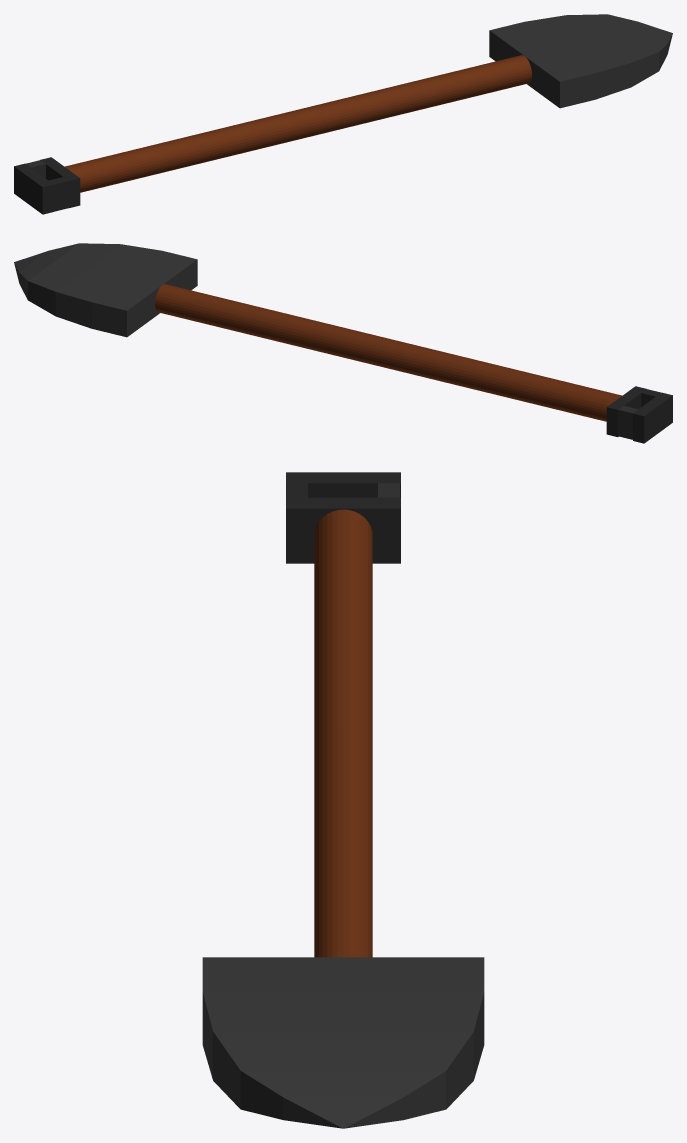
File: Shovel.fbx
3 views of the same model, one above another, from view 1: azimuth 30°, elevation 25°; view 2: azimuth 150°, elevation 25°; view 3: azimuth 270°, elevation 25° (orthographic). The views are drawn at different scales.
Parts seen in each view (by area): view 1: Cylinder, Cube, Cube.002, Cube.001, Cube.004; view 2: Cylinder, Cube, Cube.002, Cube.001, Cube.003; view 3: Cube, Cylinder, Cube.001, Cube.002.
Part boxes in pixels (x1=…): Cylinder: x1=65, y1=55, x2=531, y2=192; Cube: x1=489, y1=14, x2=672, y2=108; Cube.002: x1=14, y1=163, x2=53, y2=214; Cube.001: x1=40, y1=157, x2=80, y2=207; Cube.004: x1=49, y1=177, x2=68, y2=211; Cylinder: x1=155, y1=284, x2=621, y2=421; Cube: x1=14, y1=243, x2=197, y2=337; Cube.002: x1=633, y1=392, x2=672, y2=443; Cube.001: x1=606, y1=386, x2=646, y2=436; Cube.003: x1=618, y1=406, x2=638, y2=439; Cube: x1=202, y1=957, x2=484, y2=1128; Cylinder: x1=314, y1=509, x2=372, y2=957; Cube.001: x1=286, y1=497, x2=400, y2=563; Cube.002: x1=286, y1=472, x2=400, y2=497.
Bounding box in the file's own units: 508 × 20.58 × 96.
